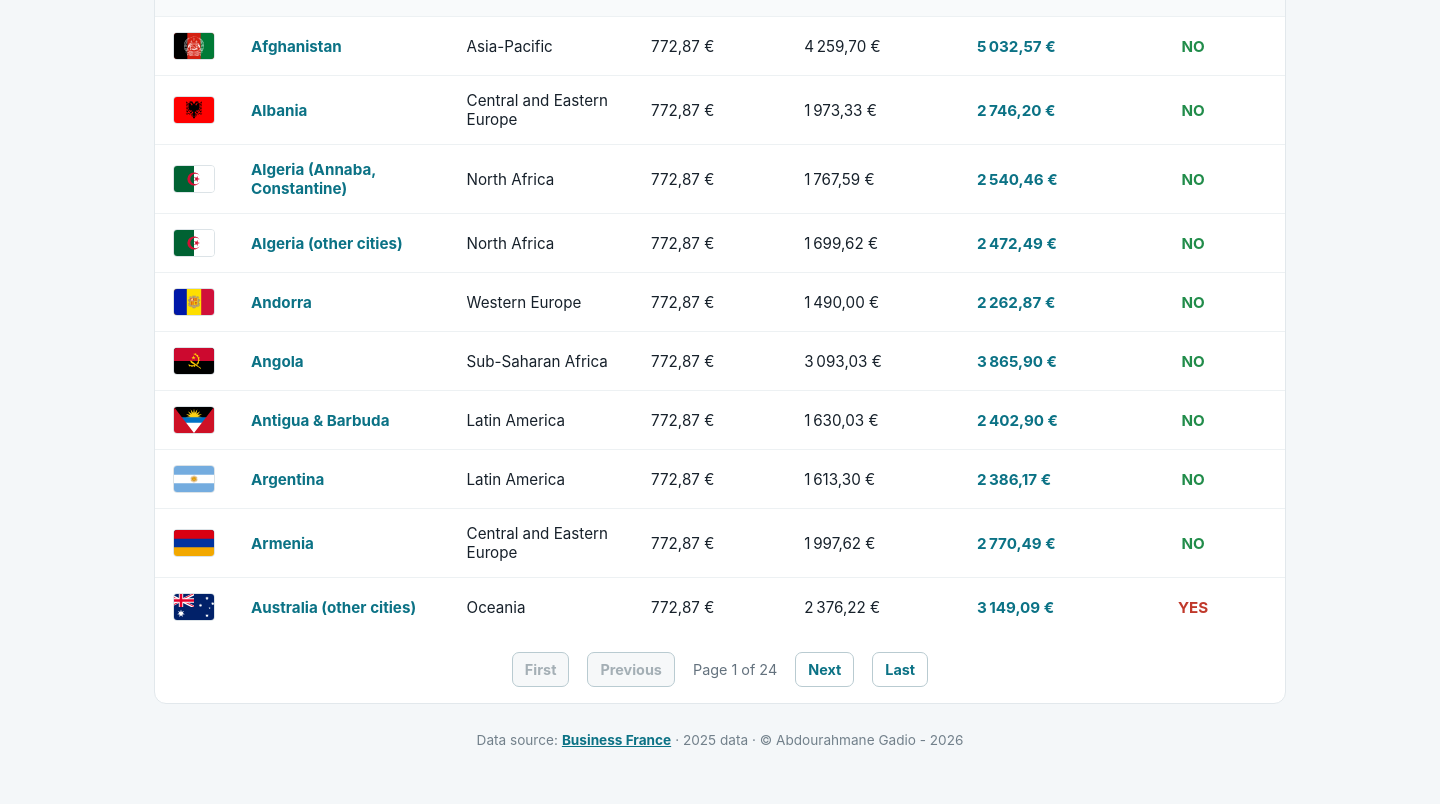
Test case: Integration tests: V.I.E Comparator › jumps to the first and last pages
(page scrolled)
Click the button with test id "last-page": (900, 670) [872, 652, 928, 687]
(page scrolled)
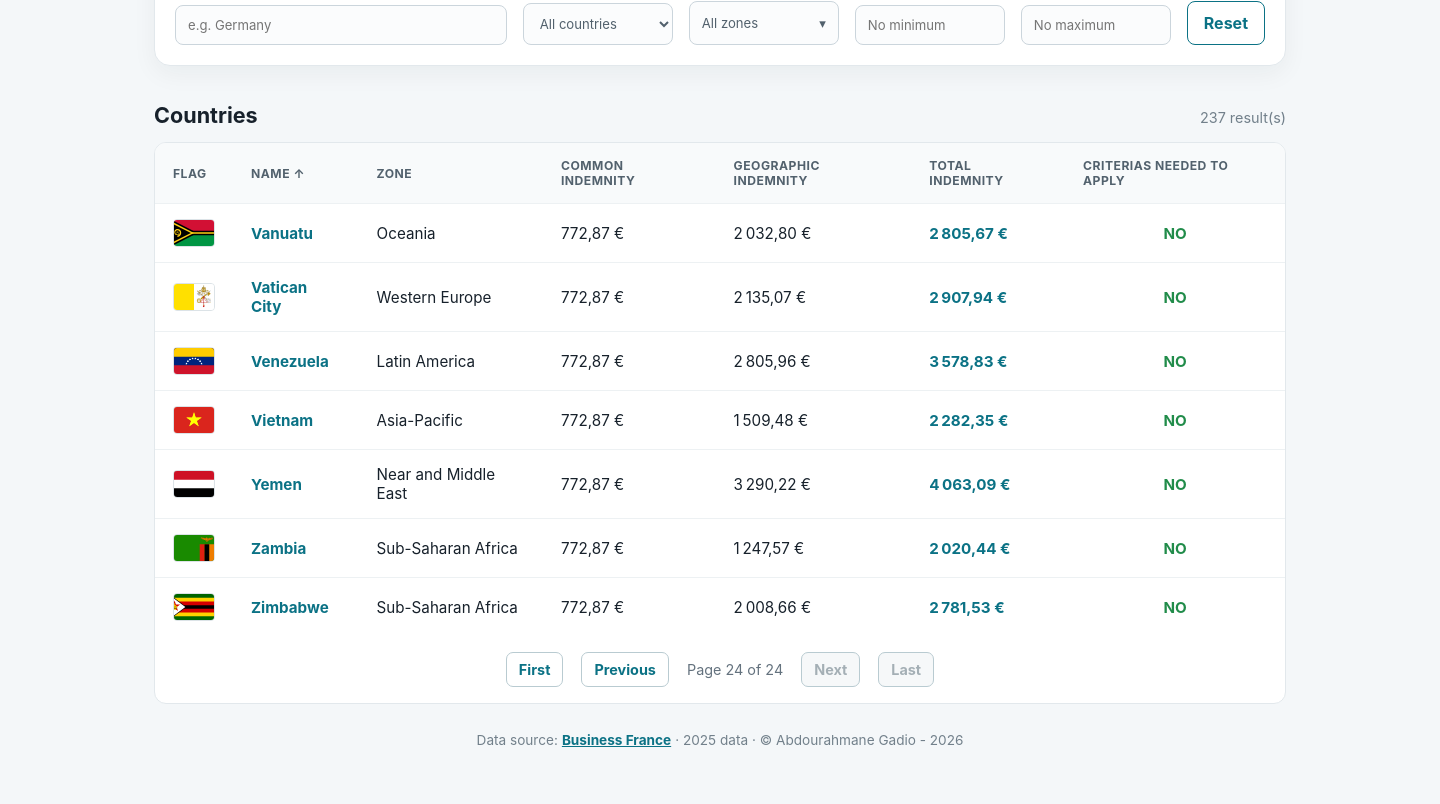
Expected: the text with test id "page-indicator" reads "Page 24 of 24", [687, 661, 783, 678]
Click the button with test id "first-page": (535, 670) [506, 652, 563, 687]
(page scrolled)
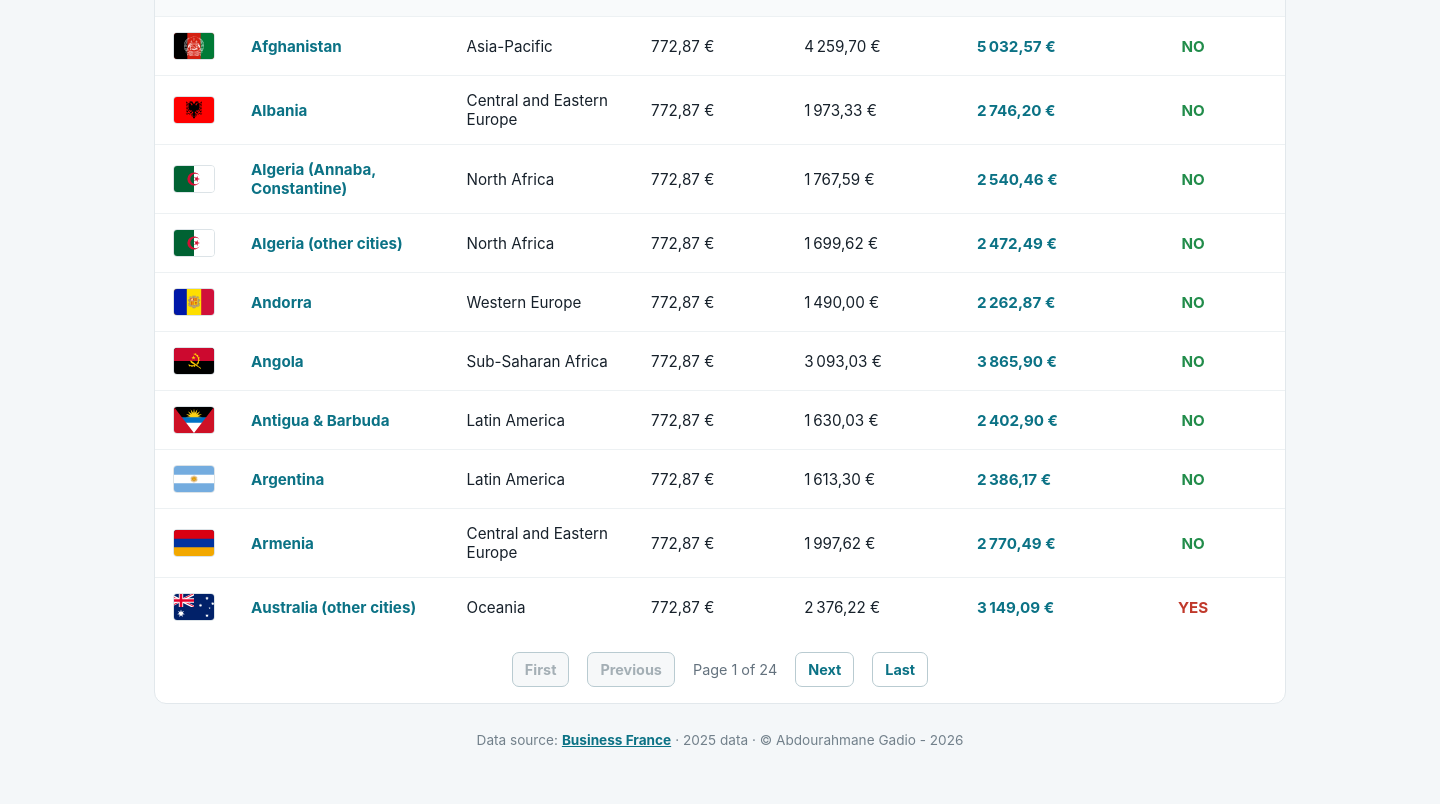
Expected: the text with test id "page-indicator" reads "Page 1 of 24", [693, 661, 777, 678]
